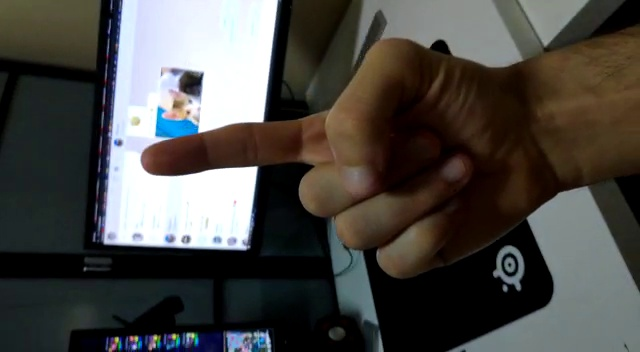One: (134, 28, 519, 280)
